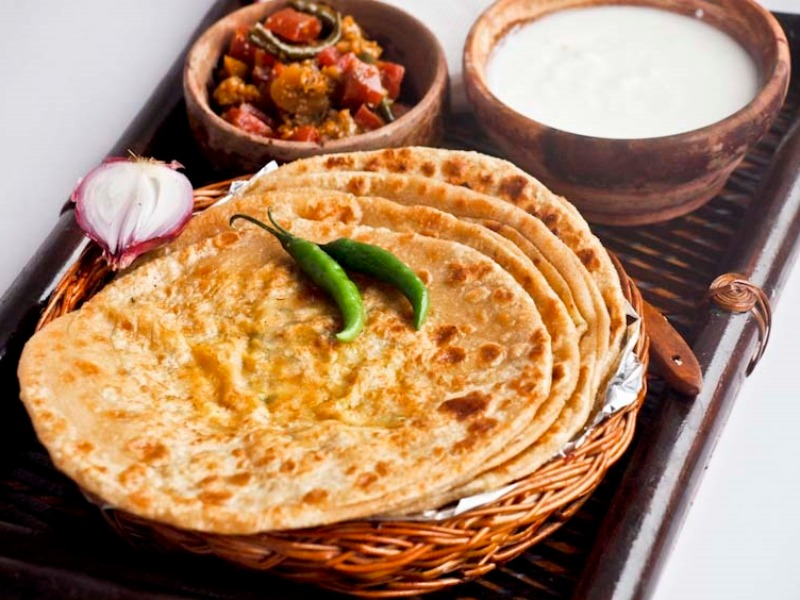aloo_paratha: (22, 147, 613, 524)
